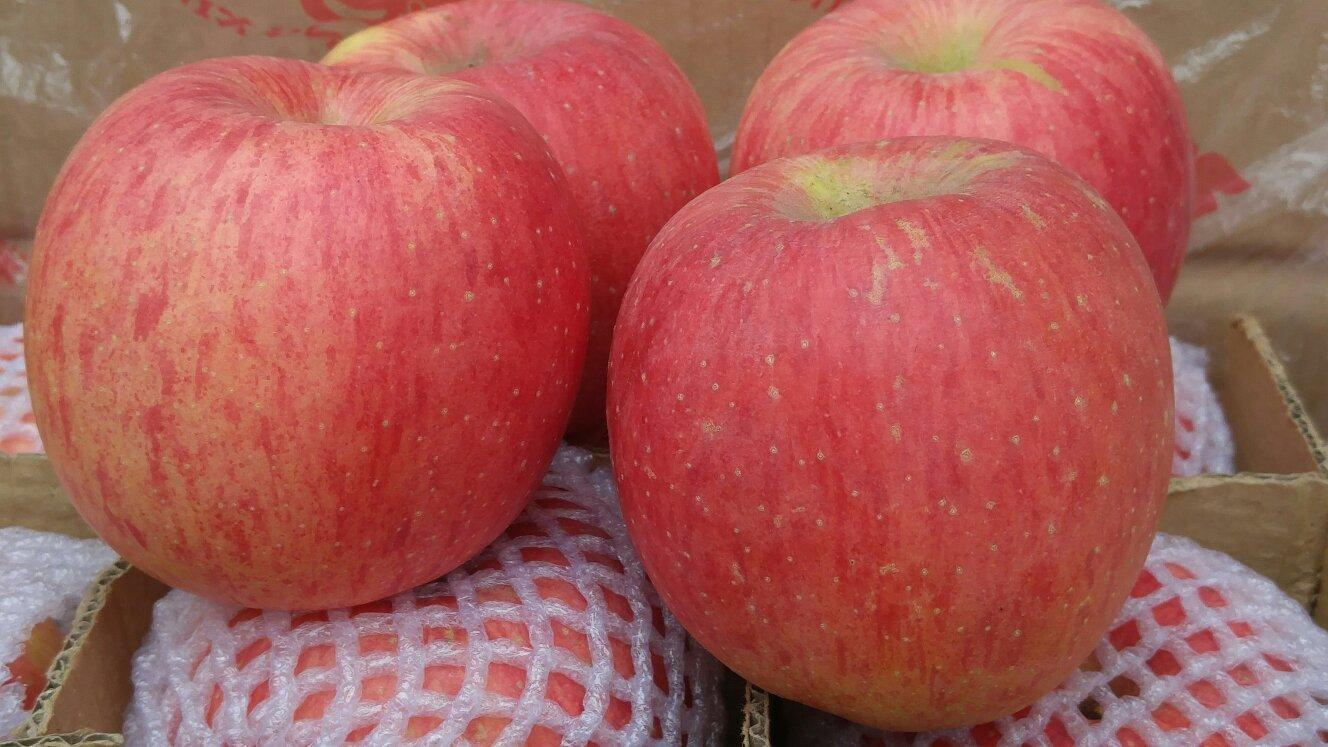apple: (588, 149, 1171, 711), (33, 56, 578, 642), (313, 4, 722, 435), (731, 7, 1187, 314)
